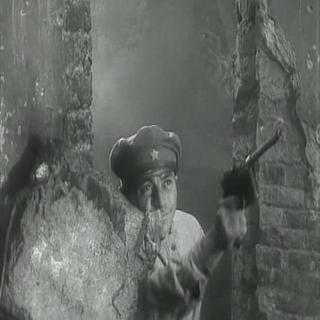gun: (214, 124, 294, 245)
